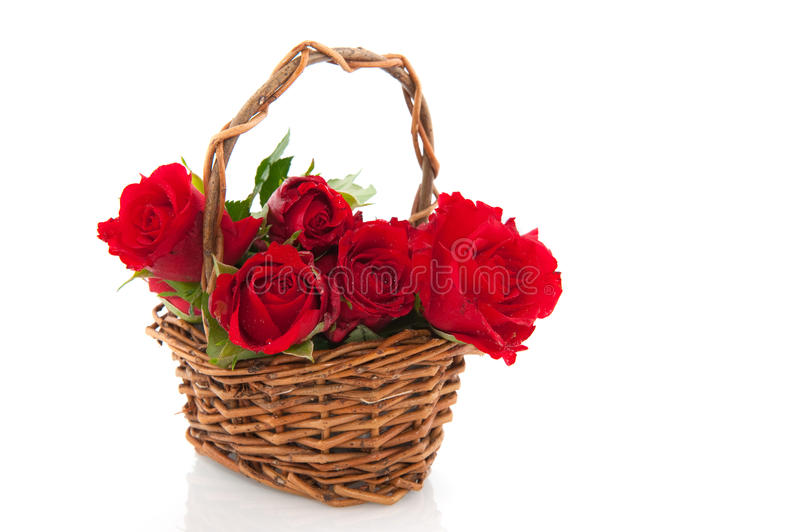RedRose: (419, 189, 571, 363), (97, 159, 253, 289), (214, 250, 323, 363), (328, 223, 426, 333), (262, 174, 357, 259)
